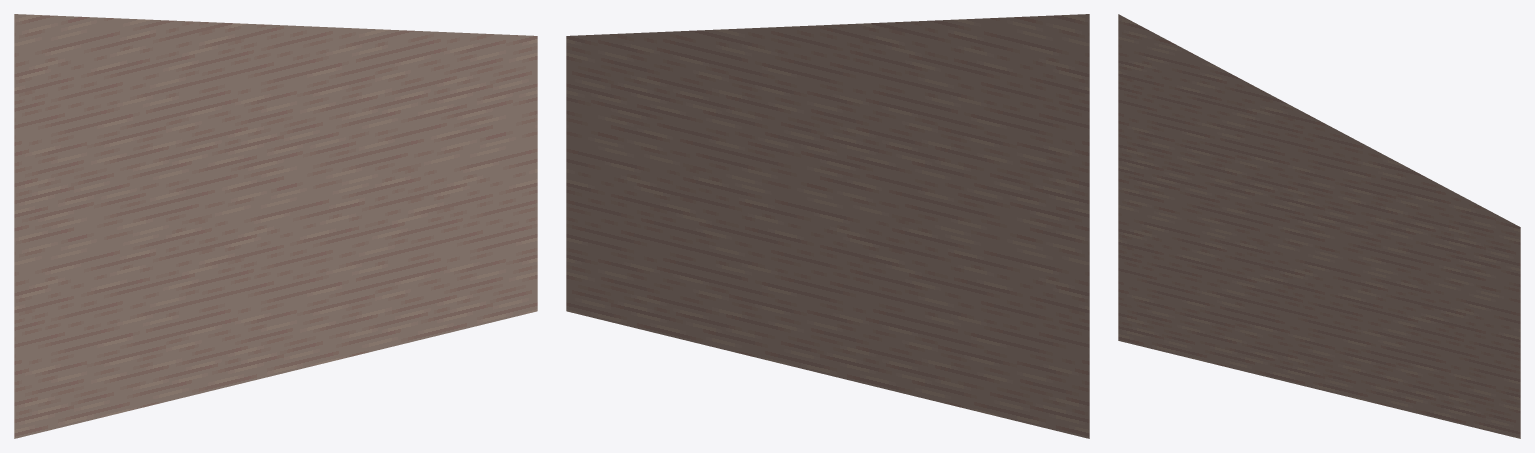
The model's file is kd_stage_135d18_4_105_bounded.glb.
The picture shows the model from 3 angles, left to right: view 1: azimuth 30°, elevation 25°; view 2: azimuth 150°, elevation 25°; view 3: azimuth 330°, elevation 25°; orthographic projection. The views are drawn at different scales.
Parts seen in each view (by area): view 1: kd_stage_135d18_4_105_bounded; view 2: kd_stage_135d18_4_105_bounded; view 3: kd_stage_135d18_4_105_bounded.
Part boxes in pixels (bbox=[...]): kd_stage_135d18_4_105_bounded: bbox=[14, 14, 537, 438]; kd_stage_135d18_4_105_bounded: bbox=[566, 14, 1089, 438]; kd_stage_135d18_4_105_bounded: bbox=[1118, 14, 1520, 438].
Size of the model in its own units: 0.3004 by 0.2332 by 0.
1 material, 1 textured.
